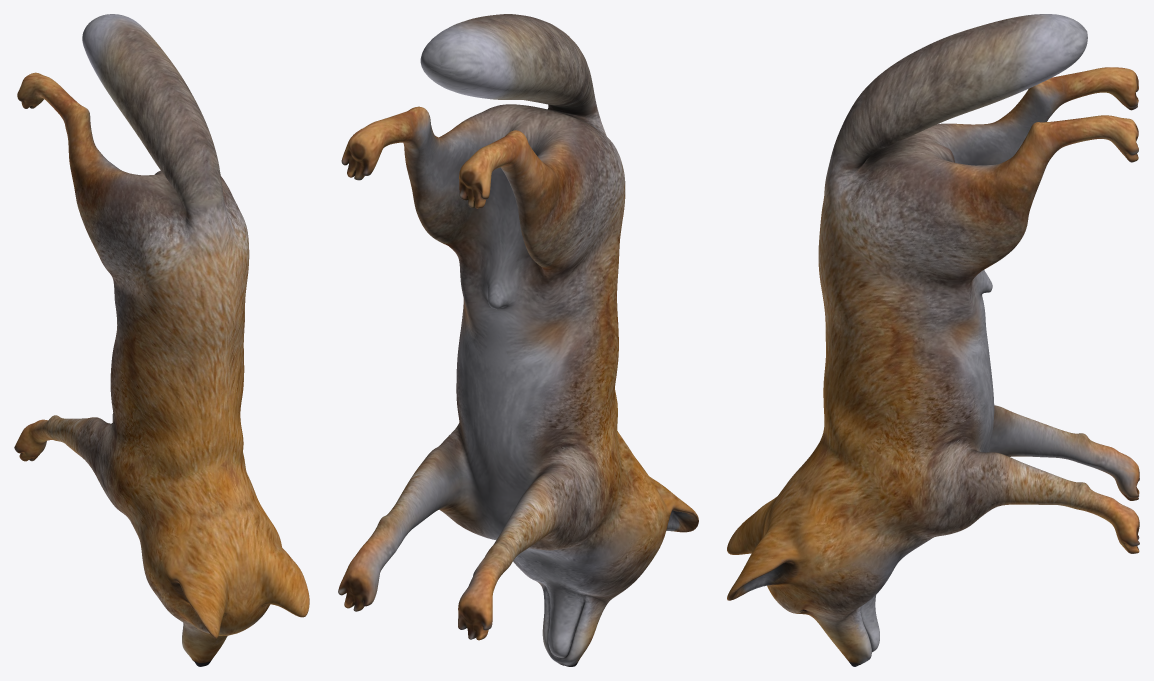
File: fox.glb
3 renders of one model, left to right at view 1: azimuth 30°, elevation 25°; view 2: azimuth 150°, elevation 25°; view 3: azimuth 270°, elevation 25°, orthographic. The views are drawn at different scales.
Visible parts, largest first — view 1: foxMesh; view 2: foxMesh; view 3: foxMesh.
Part boxes in pixels (box(x1,y1,x2,y2)): foxMesh: box(14, 14, 309, 666); foxMesh: box(338, 14, 698, 666); foxMesh: box(727, 14, 1139, 666).
Size of the model in its own units: 31.39 by 141 by 81.57.
1 material, 1 textured.
